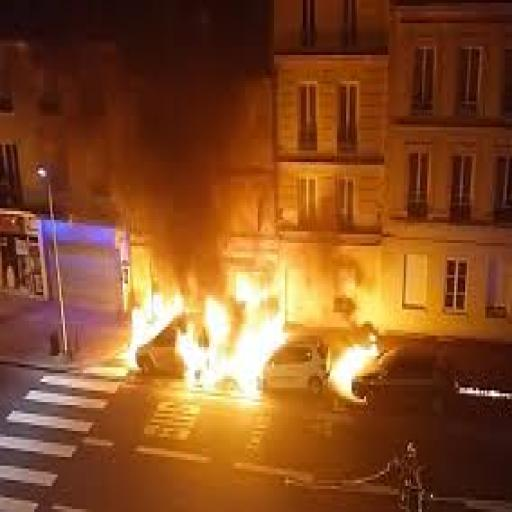fire: (151, 278, 386, 410)
